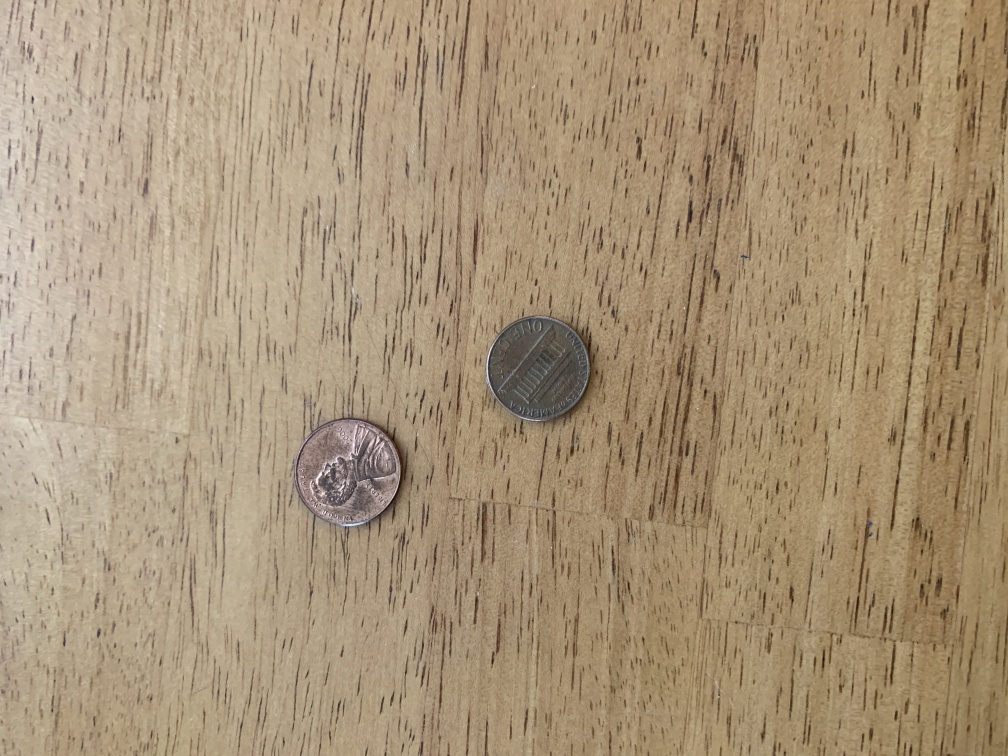penny: (481, 311, 600, 431), (290, 414, 408, 534)
